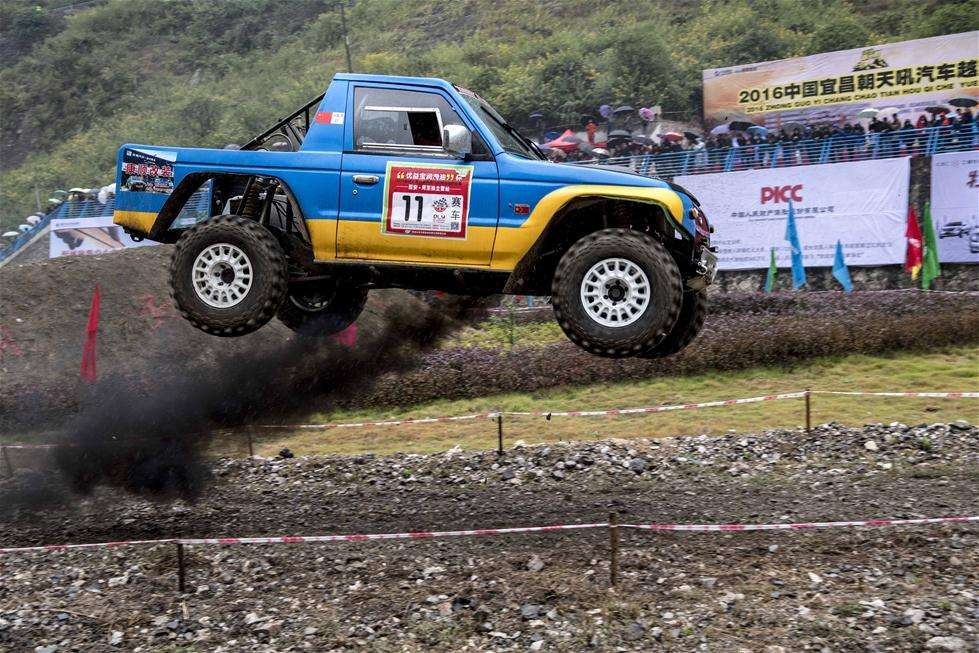racing car: (118, 68, 716, 361)
